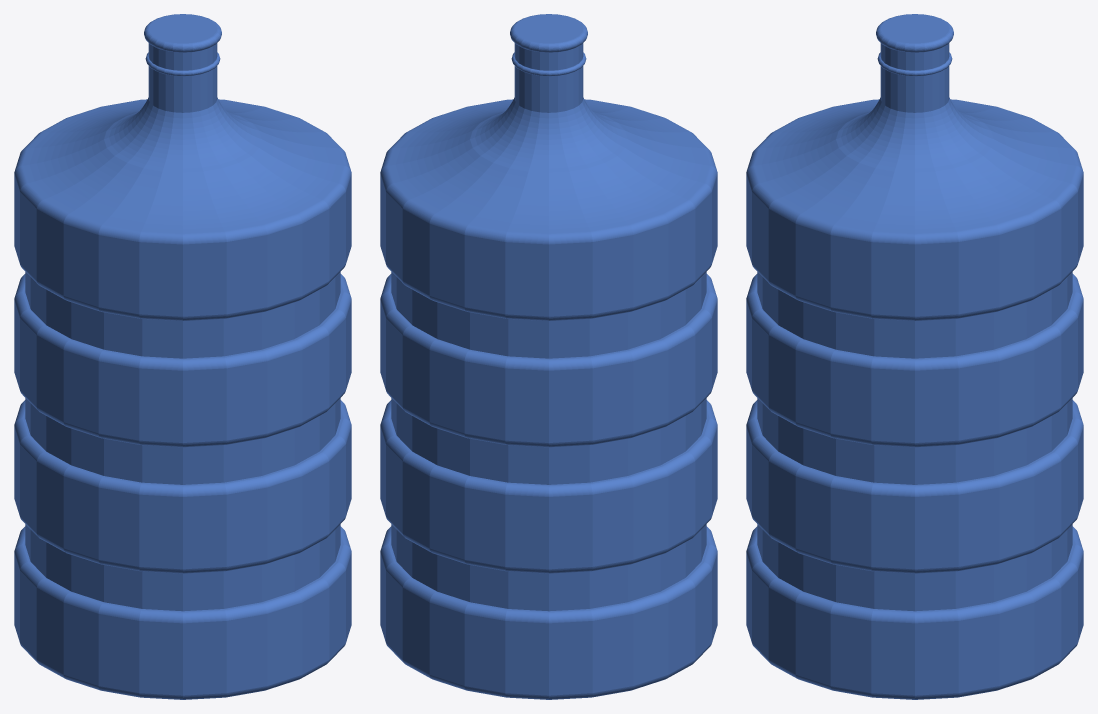
The picture shows the model from 3 angles, left to right: view 1: azimuth 30°, elevation 25°; view 2: azimuth 150°, elevation 25°; view 3: azimuth 270°, elevation 25°; orthographic projection.
Visible parts, largest first — view 1: mesh1_mesh1-geometry; view 2: mesh1_mesh1-geometry; view 3: mesh1_mesh1-geometry.
Part boxes in pixels (<box>): mesh1_mesh1-geometry: <box>14,14,351,699</box>; mesh1_mesh1-geometry: <box>380,14,717,699</box>; mesh1_mesh1-geometry: <box>746,14,1083,699</box>.
Size of the model in its own units: 0.4124 by 0.8123 by 0.4124.
